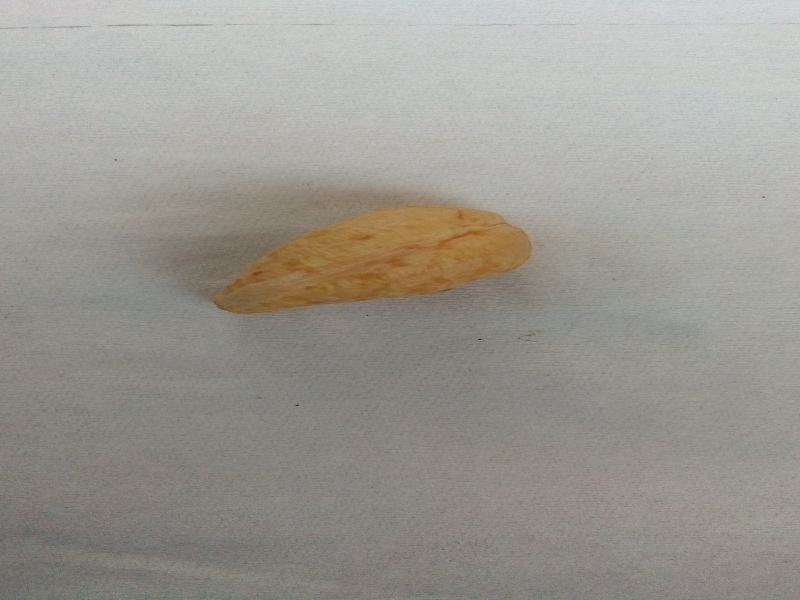cashew: (196, 193, 563, 335)
